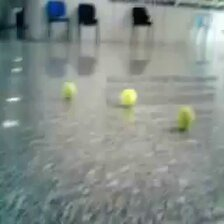tennis: (173, 106, 194, 130), (118, 87, 137, 106), (60, 81, 77, 99)
